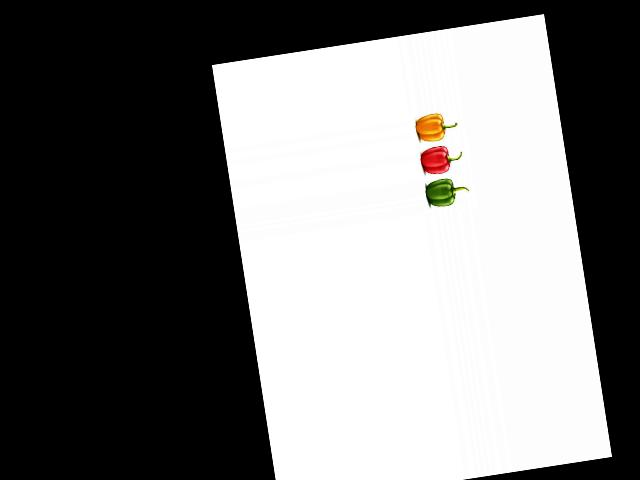bell_pepper: (422, 175, 470, 212)
